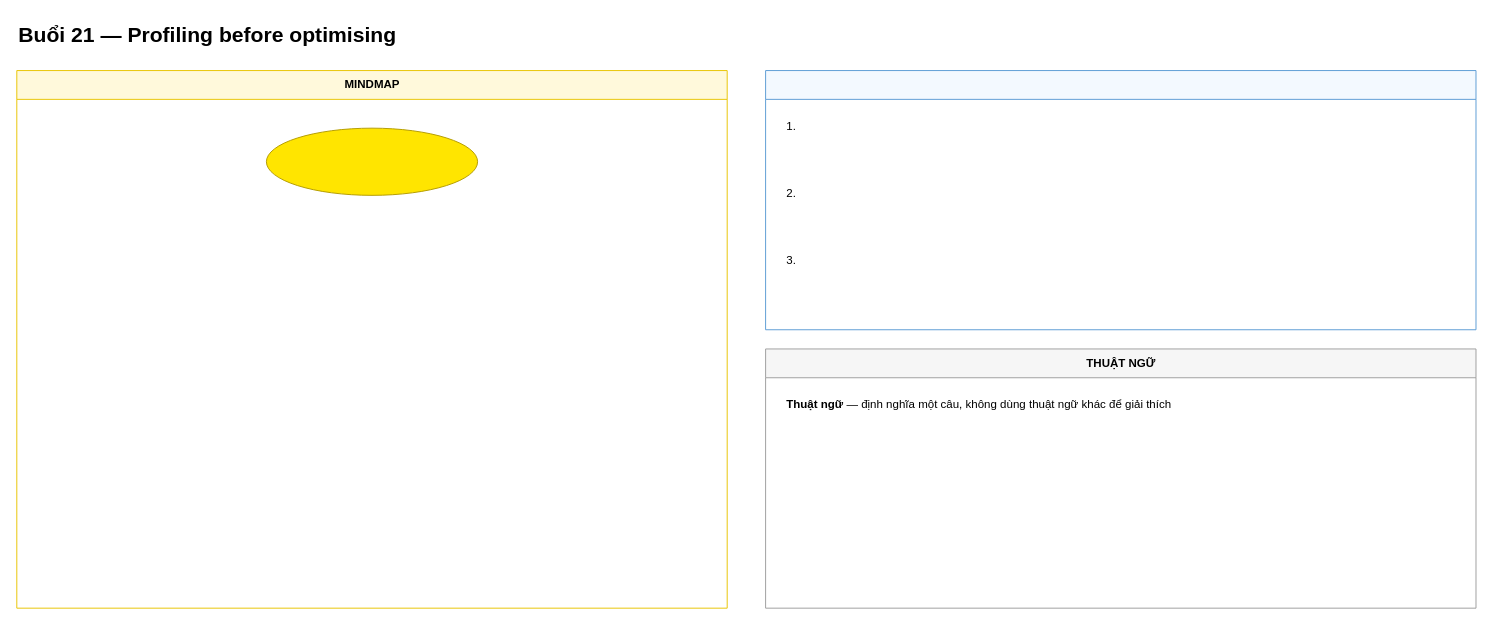
Some shapes in this 1493 by 625 pixel diagram are drawn without their labels. Here are the shapes that lost their labels. From the top down, the box of each, then its label:
(265, 127, 478, 195): Profiling before optimising
(765, 70, 1476, 330): KEY TAKEAWAY — ba điều phải nhớ
